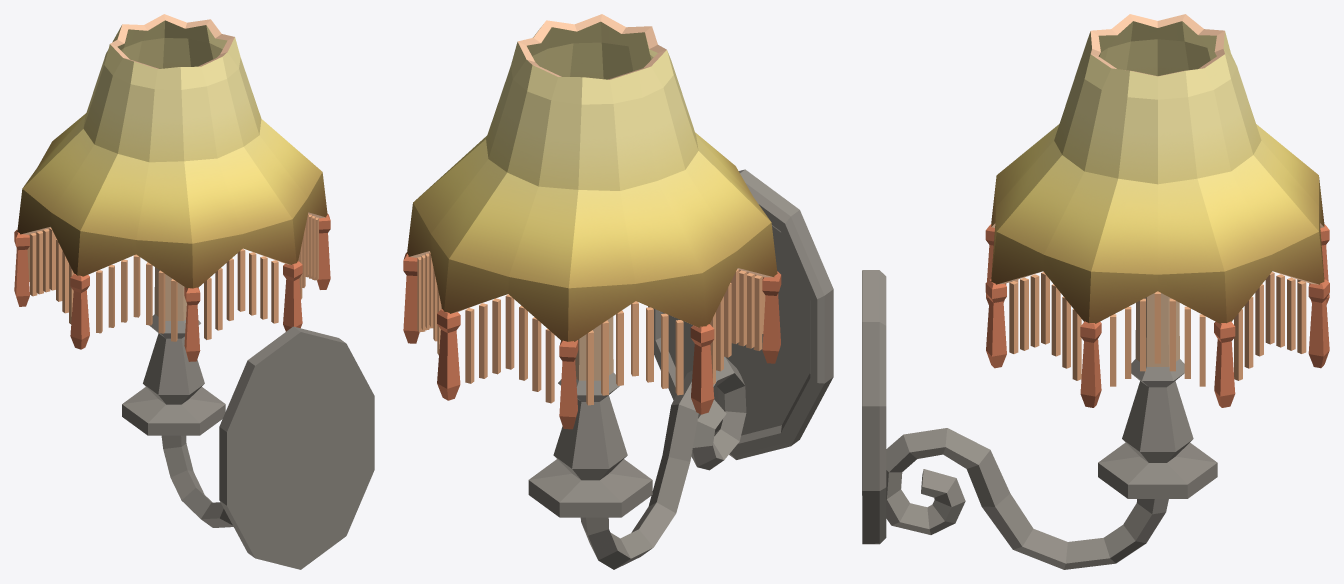
The model's file is prop_light_wall_victorian.fbx.
3 views of the same model, side by side, from view 1: azimuth 30°, elevation 25°; view 2: azimuth 150°, elevation 25°; view 3: azimuth 270°, elevation 25° (orthographic). The views are drawn at different scales.
Parts seen in each view (by area): view 1: light_wall_victorian_b, light_wall_victorian_top; view 2: light_wall_victorian_top, light_wall_victorian_b; view 3: light_wall_victorian_top, light_wall_victorian_b.
Part boxes in pixels (bbox=[...]): light_wall_victorian_b: bbox=[14, 14, 374, 569]; light_wall_victorian_top: bbox=[17, 20, 327, 288]; light_wall_victorian_top: bbox=[407, 21, 777, 341]; light_wall_victorian_b: bbox=[403, 14, 833, 569]; light_wall_victorian_top: bbox=[991, 21, 1324, 323]; light_wall_victorian_b: bbox=[862, 14, 1329, 569].
Bounding box in the file's own units: 29.75 × 50.34 × 40.44.
